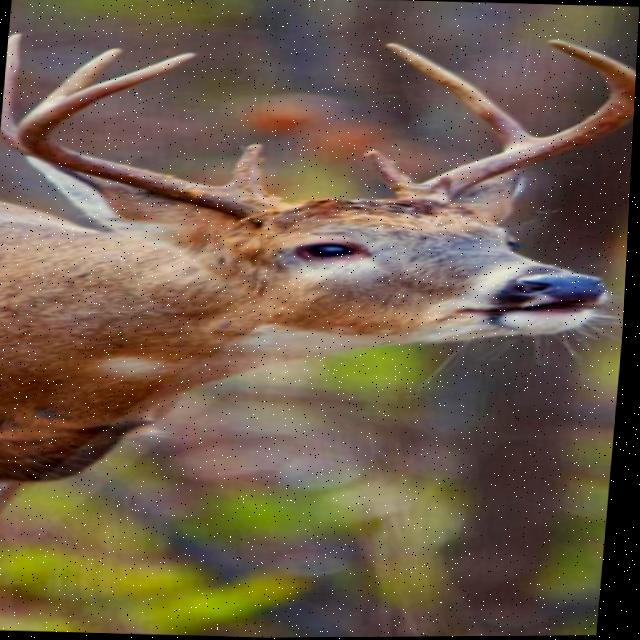L-F: (397, 39, 637, 207)
L-G1: (363, 148, 418, 198)
L-G2: (383, 42, 542, 153)
R-F: (20, 51, 310, 222)
R-G1: (219, 142, 273, 195)
R-G2: (0, 29, 27, 152)
R-G3: (49, 47, 126, 96)
